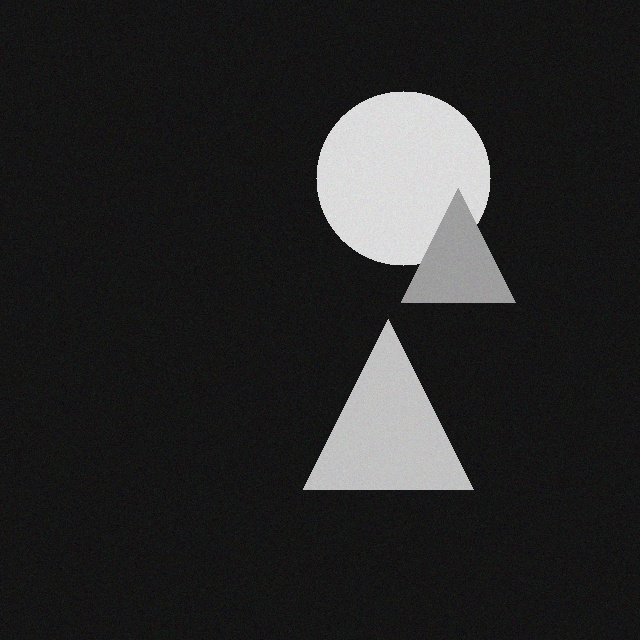circle: (329, 105, 503, 279)
triangle: (316, 333, 486, 503), (414, 202, 528, 316)
